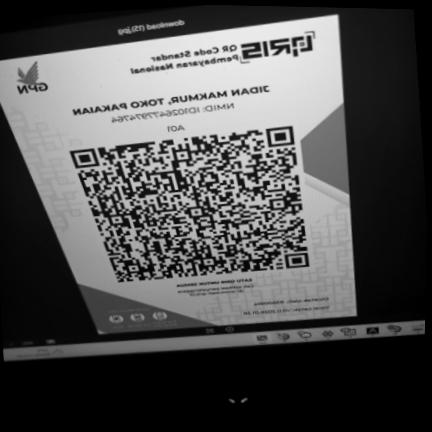Cara Pakai QRIS: (89, 302, 187, 334)
Cek Aplikasi Penyelenggara: (175, 283, 259, 299)
Dicetak Oleh: (246, 294, 333, 308)
Logo GPN: (6, 56, 60, 102)
Logo dan deskripsi QRIS: (119, 22, 325, 82)
Nama Merchant: (66, 80, 277, 119)
National Merchant ID: (105, 100, 240, 126)
QR Code: (64, 123, 315, 284)
Slogan: (172, 276, 256, 289)
Terminal ID: (160, 121, 189, 135)
Versi Cetak: (238, 303, 333, 318)
